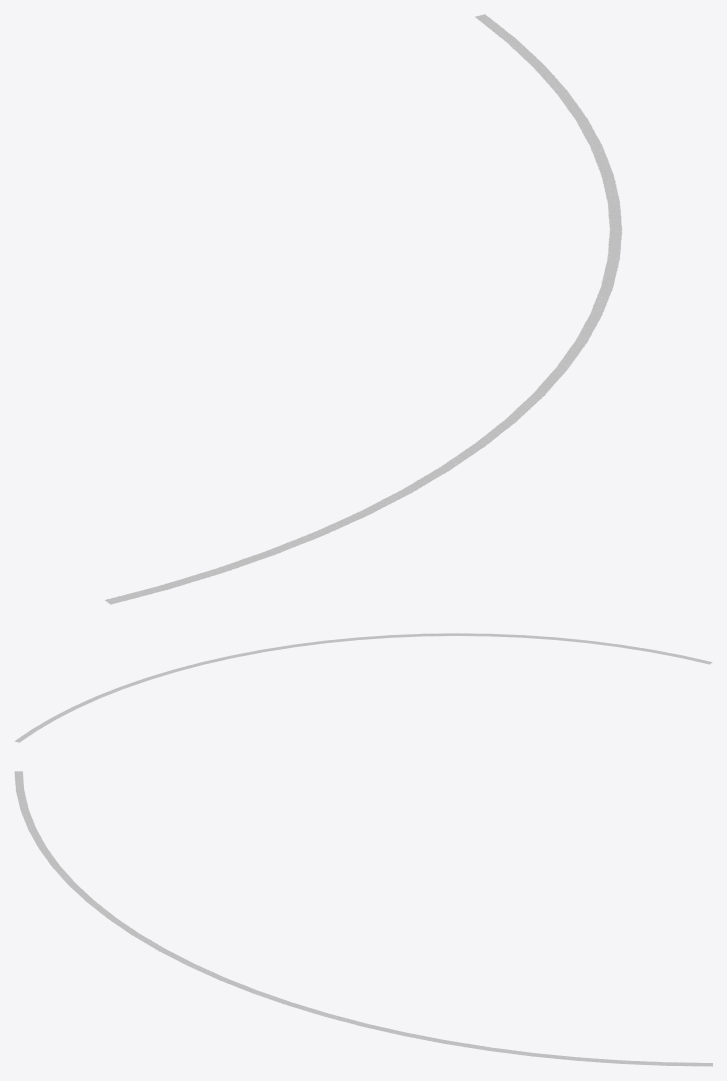
The model's file is Decal_Curve_4LaneShort_Stripe.glb.
The picture shows the model from 3 angles, top to bottom: view 1: azimuth 30°, elevation 25°; view 2: azimuth 150°, elevation 25°; view 3: azimuth 270°, elevation 25°; orthographic projection. The views are drawn at different scales.
Visible parts, largest first — view 1: Decal_Curve_4LaneShort_Stripe; view 2: Decal_Curve_4LaneShort_Stripe; view 3: Decal_Curve_4LaneShort_Stripe.
Boxes of the visible parts, bbox=[...] form: Decal_Curve_4LaneShort_Stripe: bbox=[105, 14, 621, 604]; Decal_Curve_4LaneShort_Stripe: bbox=[14, 633, 712, 742]; Decal_Curve_4LaneShort_Stripe: bbox=[14, 771, 712, 1066].
Bounding box in the file's own units: 14.8 × 0 × 14.8.
Materials: 1 (1 with a texture image).
